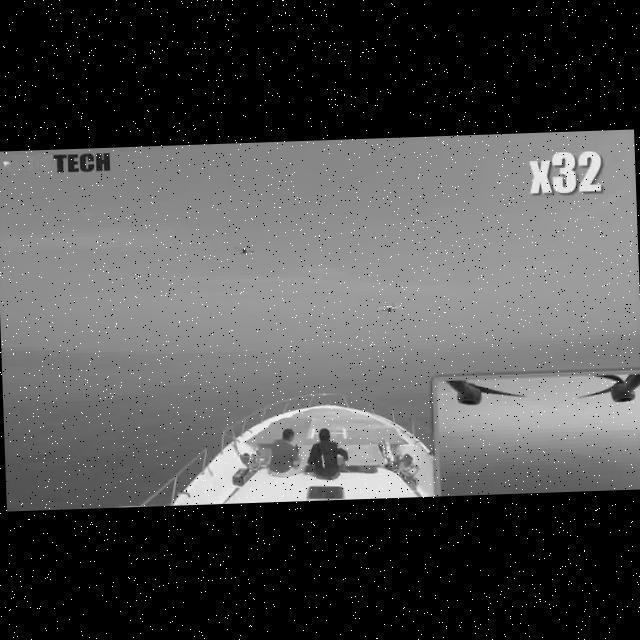Drons: (370, 294, 404, 320), (228, 240, 260, 259)
